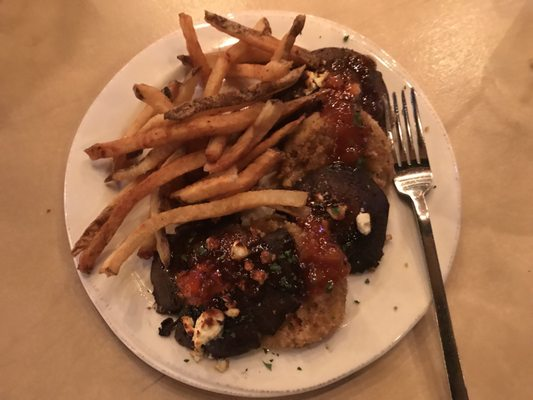burger: (385, 85, 470, 399)
